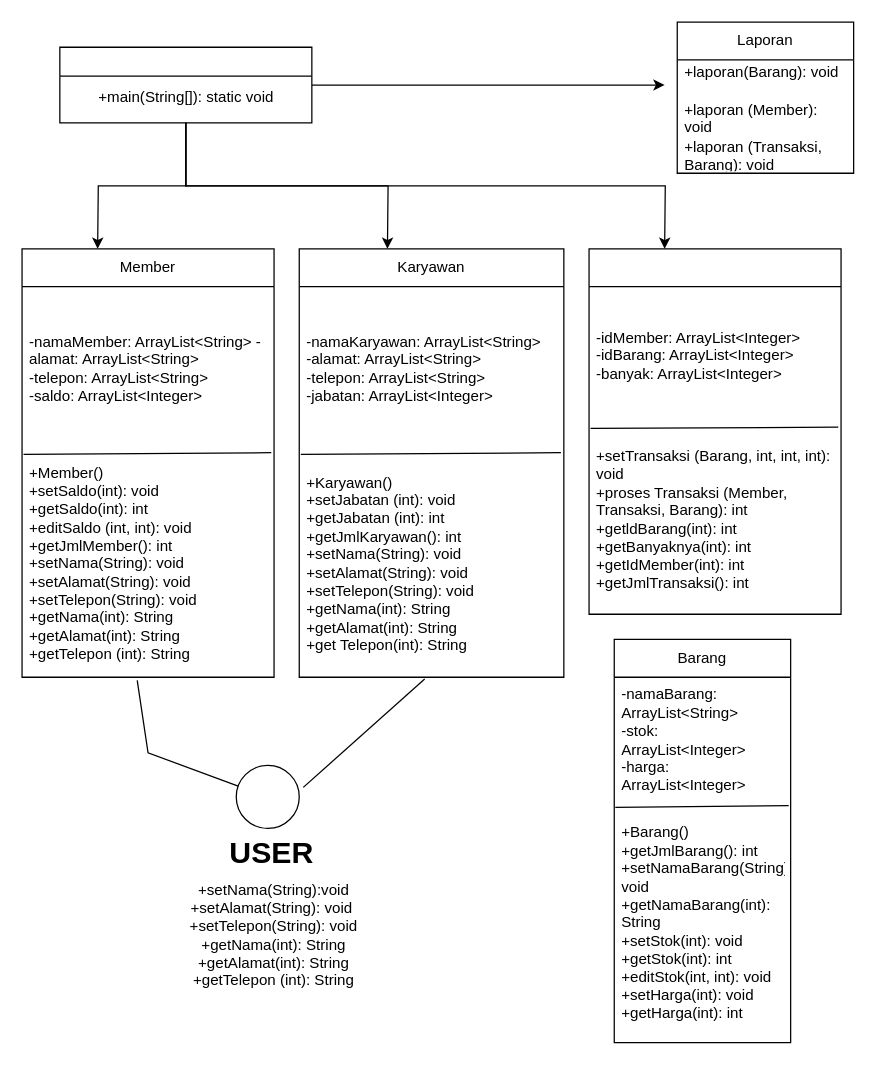
The diagram is 876 pixels wide and 1065 high, and some of its shapes have lost their labels. Each missing label, with the box of its shape:
Toko Online: (59, 46, 312, 123)
Tranksaksi: (588, 248, 841, 614)
